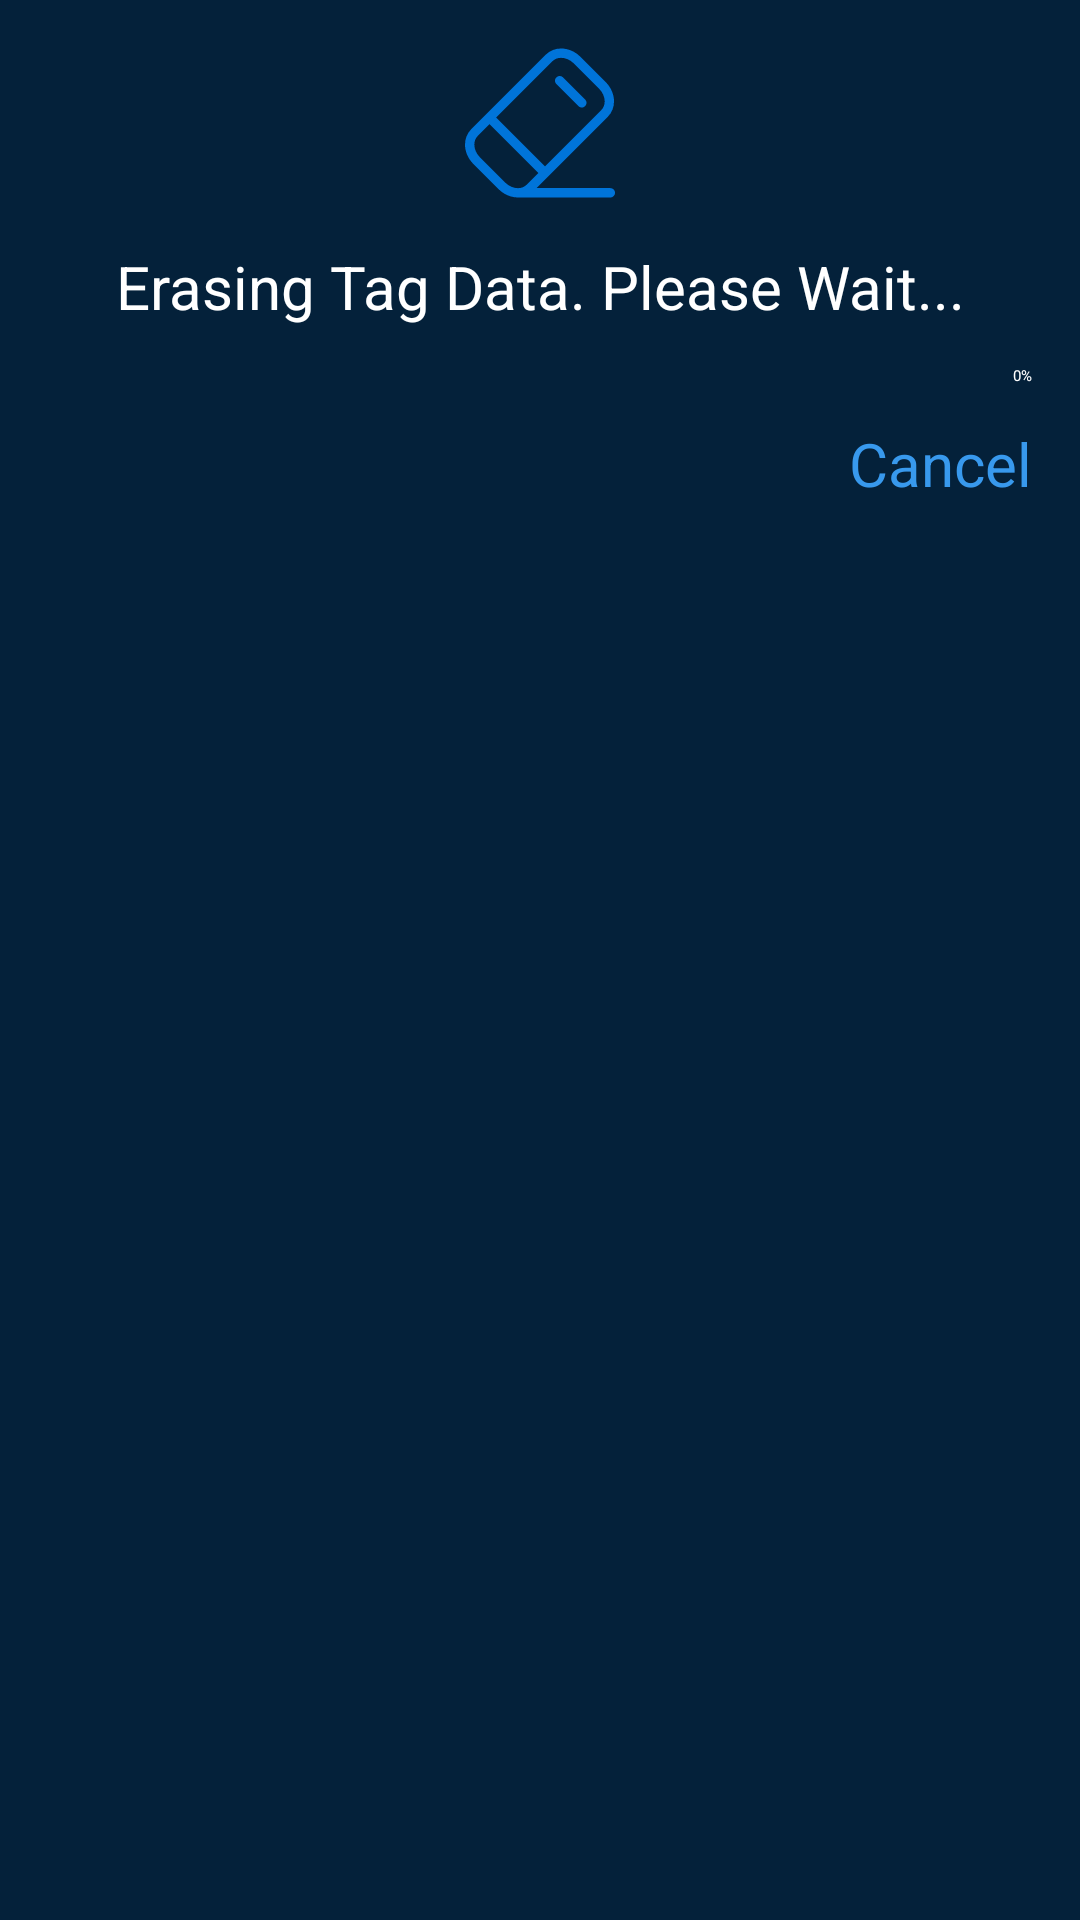

Screen size 1080px×1920px. Icon name, then its center in pixels as [x,y]:
eraser: [540,123]
